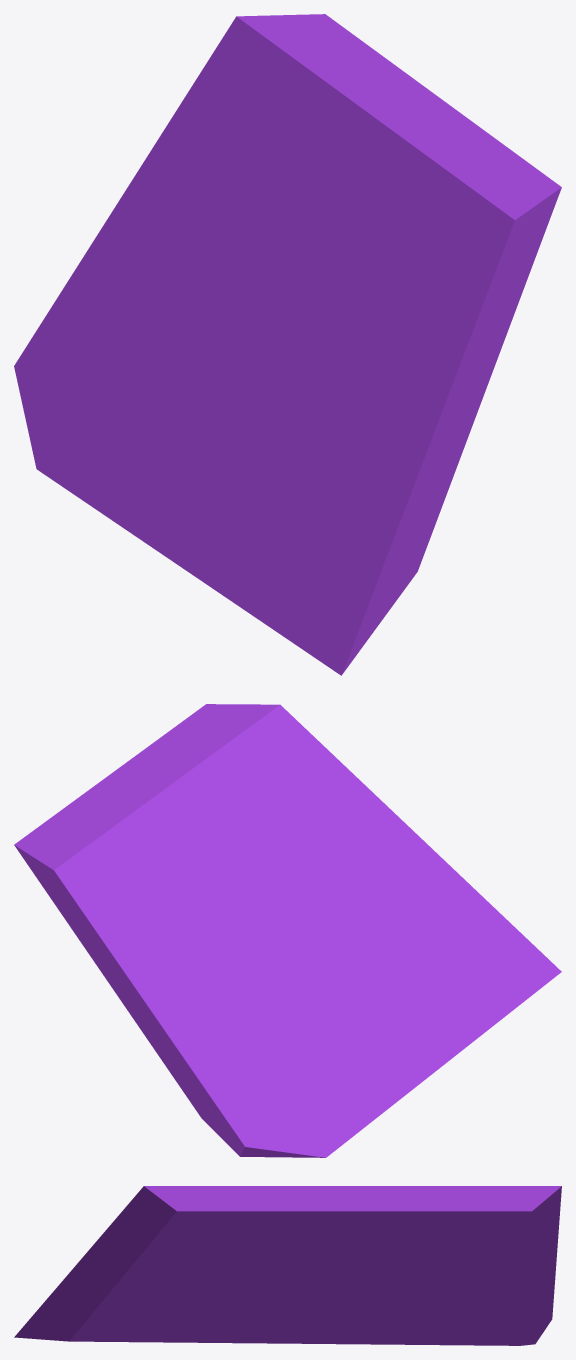
Rendered from Window_114_2_chunks.fbx.
3 views of the same model, one above another, from view 1: azimuth 30°, elevation 25°; view 2: azimuth 150°, elevation 25°; view 3: azimuth 270°, elevation 25° (orthographic). The views are drawn at different scales.
Parts seen in each view (by area): view 1: Window_114_2_0, Window_114_2_2, Window_114_2_3, Window_114_2_1, Window_114_2_5, Window_114_2_4, Window_114_2_6; view 2: Window_114_2_2, Window_114_2_0, Window_114_2_3, Window_114_2_1, Window_114_2_4, Window_114_2_5, Window_114_2_6; view 3: Window_114_2_1, Window_114_2_0, Window_114_2_5, Window_114_2_2, Window_114_2_4, Window_114_2_3, Window_114_2_6.
Boxes of the visible parts, x1,y1,x2,y2 form: Window_114_2_0: (233, 78, 561, 358); Window_114_2_2: (14, 51, 241, 510); Window_114_2_3: (175, 389, 418, 675); Window_114_2_1: (214, 14, 492, 202); Window_114_2_5: (332, 341, 503, 569); Window_114_2_4: (98, 384, 257, 563); Window_114_2_6: (195, 335, 361, 421); Window_114_2_2: (73, 897, 373, 1157); Window_114_2_0: (122, 704, 365, 962); Window_114_2_3: (351, 854, 561, 1072); Window_114_2_1: (14, 745, 190, 966); Window_114_2_4: (309, 967, 433, 1119); Window_114_2_5: (330, 786, 437, 898); Window_114_2_6: (284, 863, 353, 1006); Window_114_2_1: (269, 1186, 561, 1315); Window_114_2_0: (104, 1186, 434, 1284); Window_114_2_5: (69, 1232, 258, 1340); Window_114_2_2: (367, 1200, 560, 1345); Window_114_2_4: (209, 1314, 373, 1344); Window_114_2_3: (14, 1271, 211, 1342); Window_114_2_6: (250, 1281, 366, 1316).
Size of the model in its own units: 428 by 411 by 805.
